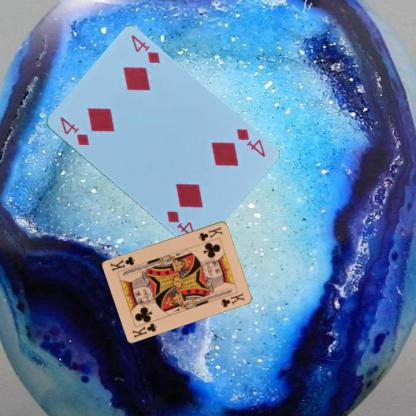4d: (57, 114, 92, 147), (233, 126, 266, 159)
Kc: (129, 320, 158, 339), (196, 224, 224, 242)
